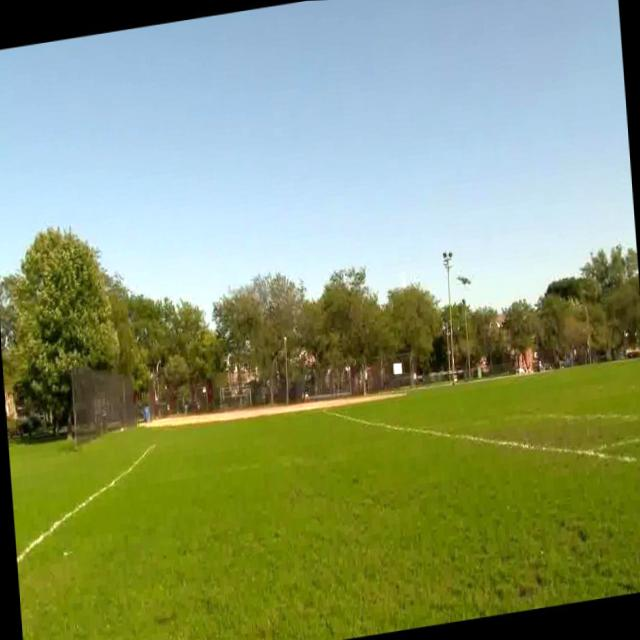drone: (455, 269, 472, 292)
